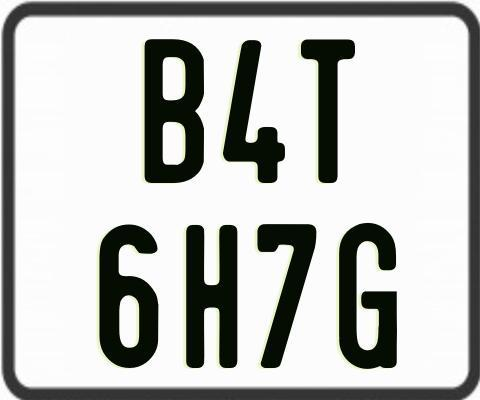4: (221, 40, 283, 188)
6: (98, 222, 161, 370)
7: (257, 222, 317, 369)
B: (142, 39, 203, 184)
G: (339, 223, 403, 372)
H: (184, 224, 236, 367)
T: (299, 38, 355, 184)
